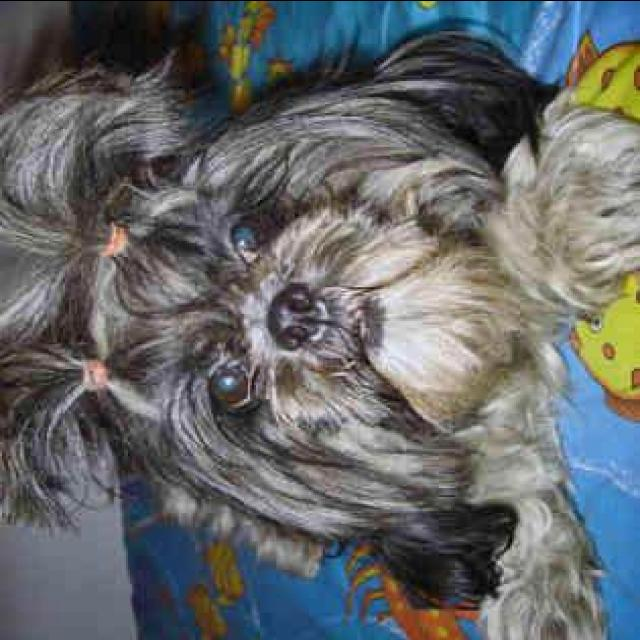shih_tzu: (0, 23, 638, 637)
